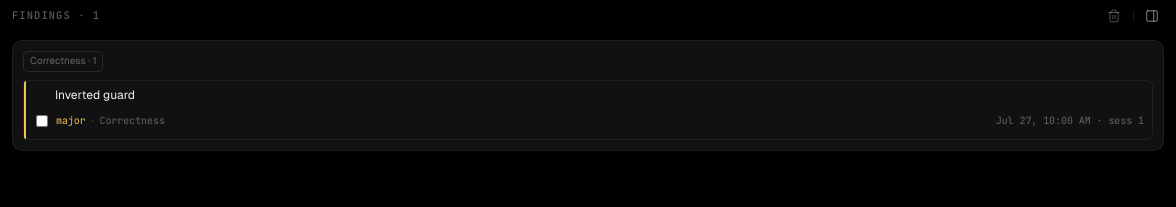
Scenario: FindingsPane write actions › clears the selection from the footer
Click the checkbox named "Select finding 7 for batch apply" at (42, 121), box [36, 115, 48, 127]
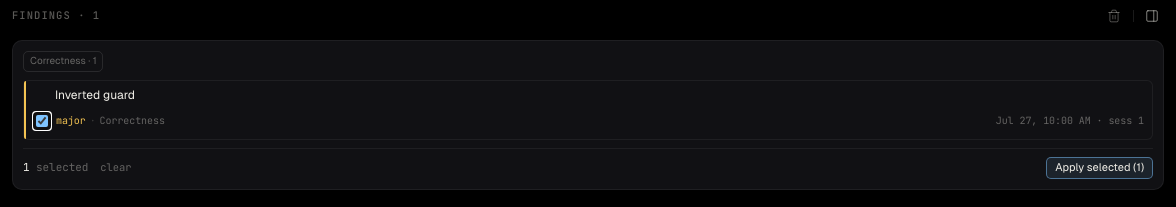
Check: the button "Apply selected (1)" is shown, box [1046, 157, 1153, 179]
Click the button with aria-label "Clear selection" at (116, 168), box [96, 160, 136, 176]
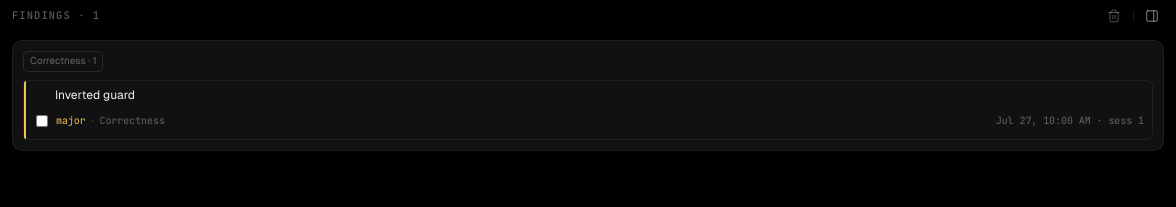
Check: the checkbox named "Select finding 7 for batch apply" is not checked, box [36, 115, 48, 127]
Check: the button "Apply selected" is gone
